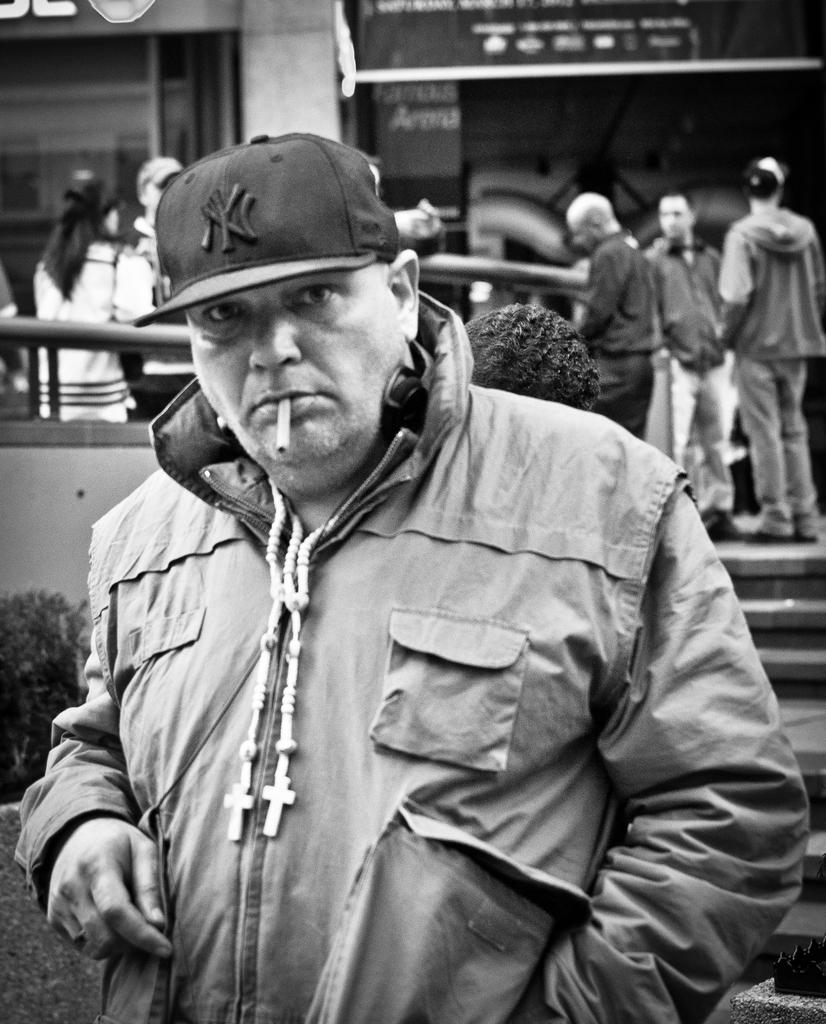Hat: (134, 130, 395, 330)
